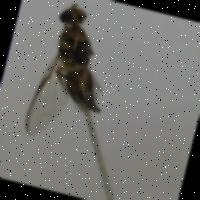Oriental-fruit-fly: (10, 0, 132, 159)
